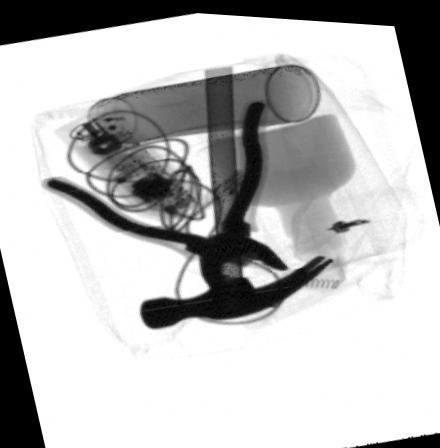Hammer: (138, 63, 336, 328)
Pliers: (37, 94, 288, 287)
